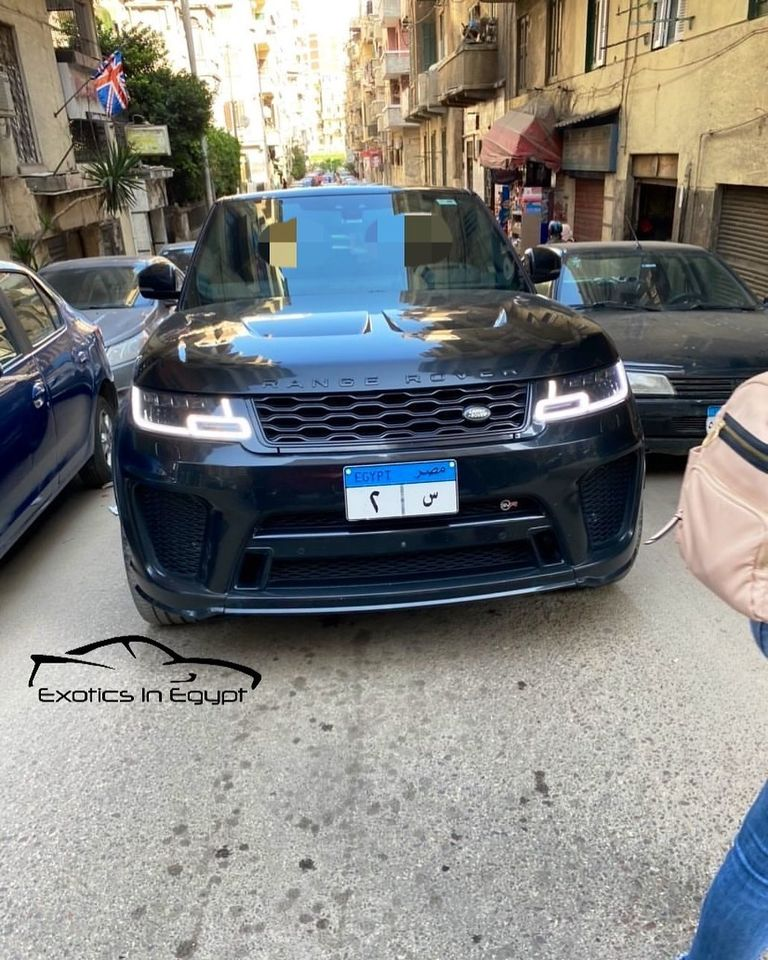carpl: (341, 459, 459, 524)
